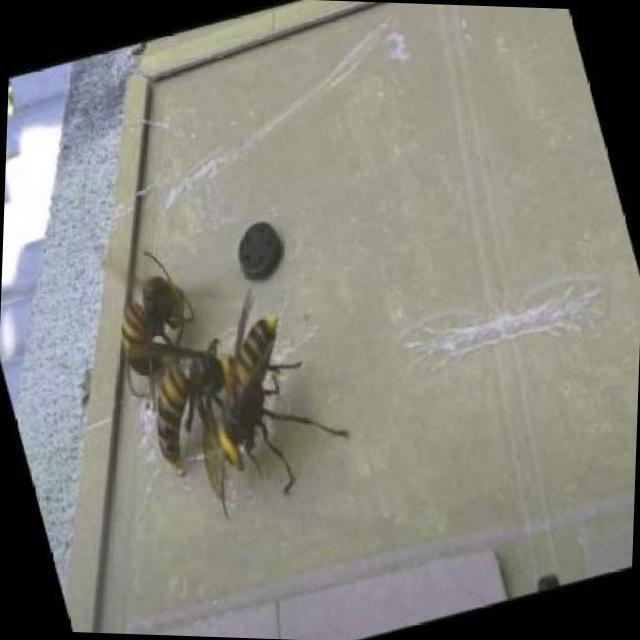Wasp: (215, 273, 349, 494), (82, 218, 194, 386)
